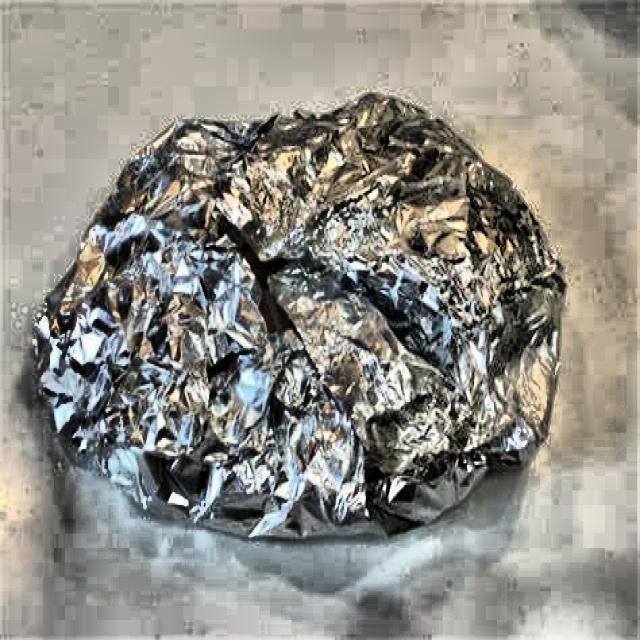Foil: (29, 80, 572, 556)
